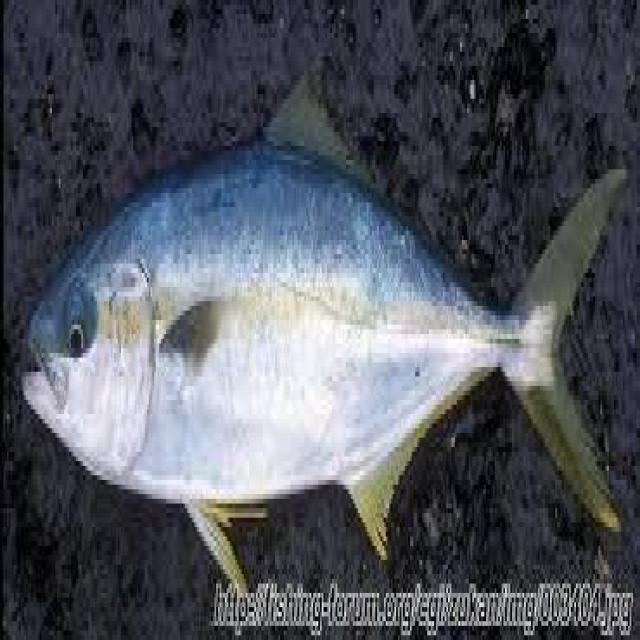Kingfish: (18, 70, 632, 590)
